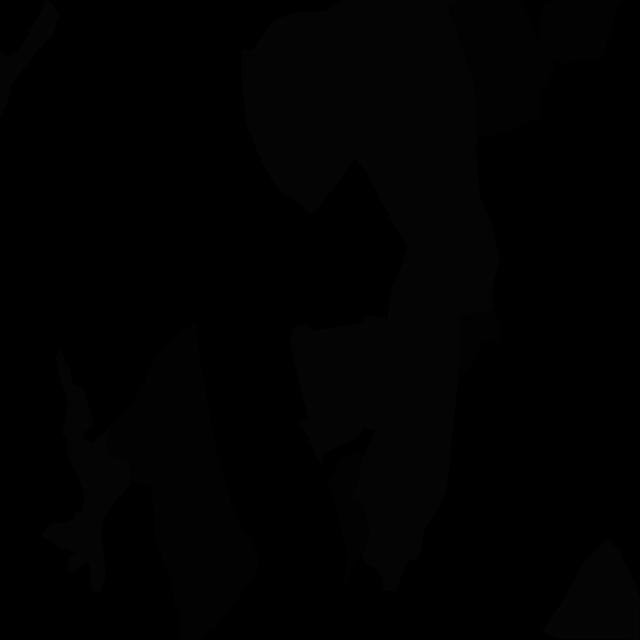cardboard: (106, 323, 260, 640), (449, 0, 554, 137), (326, 451, 369, 586), (539, 0, 624, 64), (459, 309, 500, 380)
soft_plastic: (242, 0, 500, 591), (290, 316, 401, 569), (41, 349, 132, 593), (542, 538, 640, 640), (0, 0, 59, 120)
